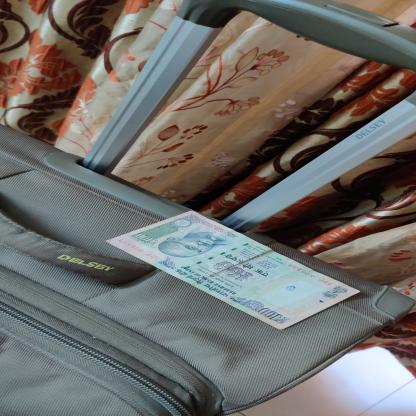Old100Front: (104, 210, 361, 330)
